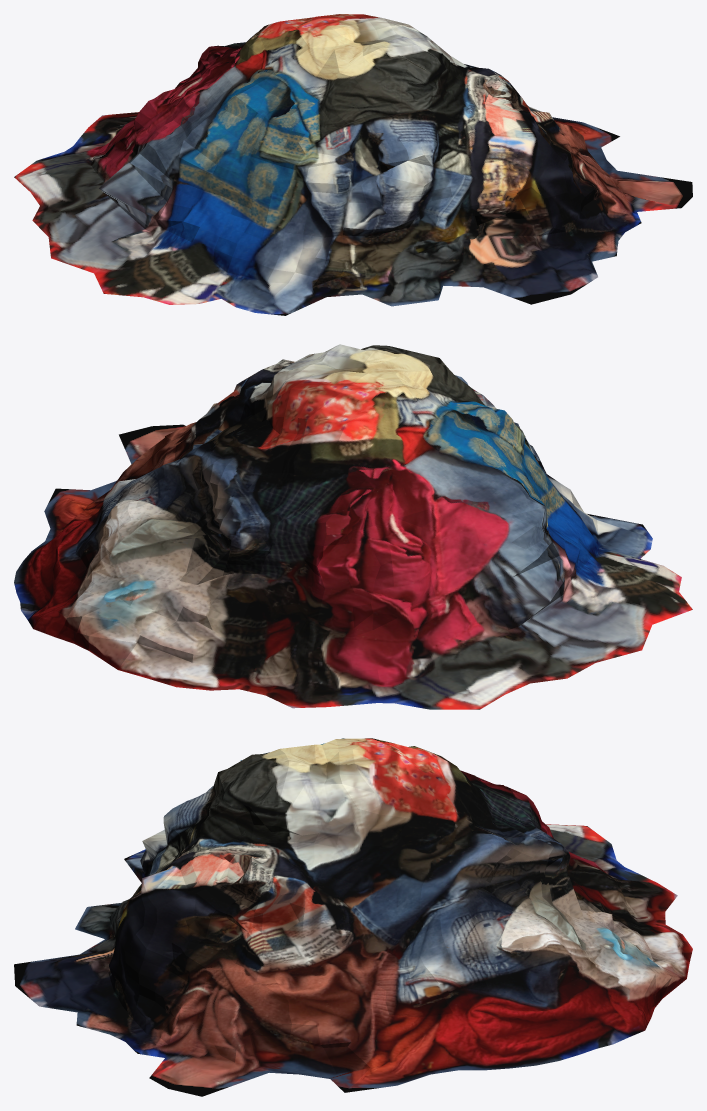
File: ropa.fbx
3 renders of one model, top to bottom at view 1: azimuth 30°, elevation 25°; view 2: azimuth 150°, elevation 25°; view 3: azimuth 270°, elevation 25°, orthographic. The views are drawn at different scales.
Visible parts, largest first — view 1: large_pile_of_cloth; view 2: large_pile_of_cloth; view 3: large_pile_of_cloth.
Part boxes in pixels (bbox=[...]): large_pile_of_cloth: bbox=[14, 14, 692, 315]; large_pile_of_cloth: bbox=[14, 344, 692, 709]; large_pile_of_cloth: bbox=[14, 738, 692, 1096].
Bounding box in the file's own units: 2131 × 659 × 2034.
1 material, 1 textured.
